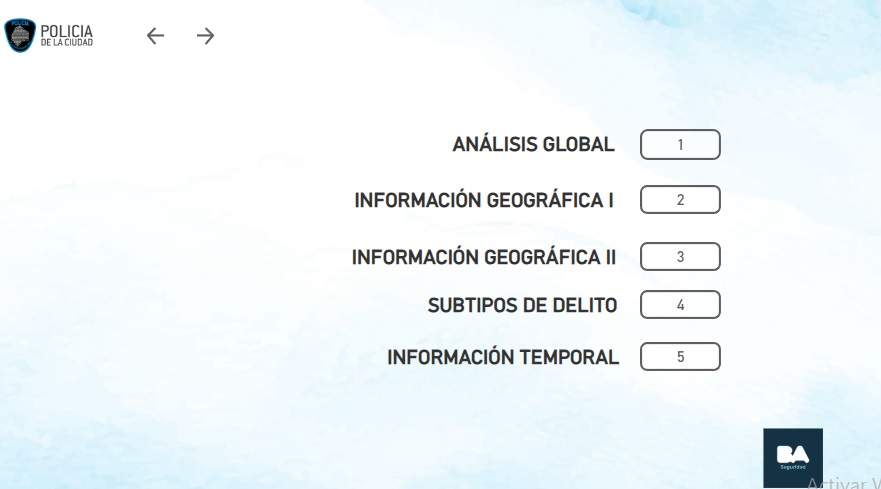

What the dashboard file says about the page in this screenshot:
{"tool":"powerbi","page":{"name":"Índice","canvas":[1280,720],"ordinal":1},"visuals":[{"type":"image","box":[1100,624.3,95.7,95.7],"z":0},{"type":"image","box":[0,0,142.9,122.9],"z":1000},{"type":"actionButton","title":"2","box":[926.7,277.6,117.1,41.9],"z":2000},{"type":"actionButton","box":[926.7,196.6,117.1,44.8],"z":3000},{"type":"actionButton","title":"2","box":[926.7,360,117.1,41.9],"z":4000},{"type":"actionButton","title":"2","box":[926.7,429.4,117.1,41.9],"z":5000},{"type":"actionButton","title":"2","box":[926.7,504.6,117.1,41.9],"z":6000},{"type":"textbox","box":[640.5,196.6,280.5,57.8],"z":7000},{"type":"textbox","box":[481.4,277.6,439.5,57.8],"z":8000},{"type":"textbox","box":[481.4,360,439.5,57.8],"z":9000},{"type":"textbox","box":[607.2,429.4,299.3,57.8],"z":10000},{"type":"textbox","box":[552.3,504.6,354.2,57.8],"z":11000},{"type":"actionButton","box":[206.7,41.9,70.8,40.5],"z":12000},{"type":"actionButton","box":[277.6,41.9,66.5,40.5],"z":13000}]}

Visuals, with their boxes on the page's 1280x720 design canvas (x1, y1, x2, y2). These are canvas units, not pixel positions in the 881x489 screenshot, which may show the page scaled, cropped or inside an application window:
image: Rect(1100, 624, 1196, 720)
image: Rect(0, 0, 143, 123)
"2" actionButton: Rect(927, 278, 1044, 320)
actionButton: Rect(927, 197, 1044, 241)
"2" actionButton: Rect(927, 360, 1044, 402)
"2" actionButton: Rect(927, 429, 1044, 471)
"2" actionButton: Rect(927, 505, 1044, 546)
textbox: Rect(640, 197, 921, 254)
textbox: Rect(481, 278, 921, 335)
textbox: Rect(481, 360, 921, 418)
textbox: Rect(607, 429, 906, 487)
textbox: Rect(552, 505, 906, 562)
actionButton: Rect(207, 42, 278, 82)
actionButton: Rect(278, 42, 344, 82)
